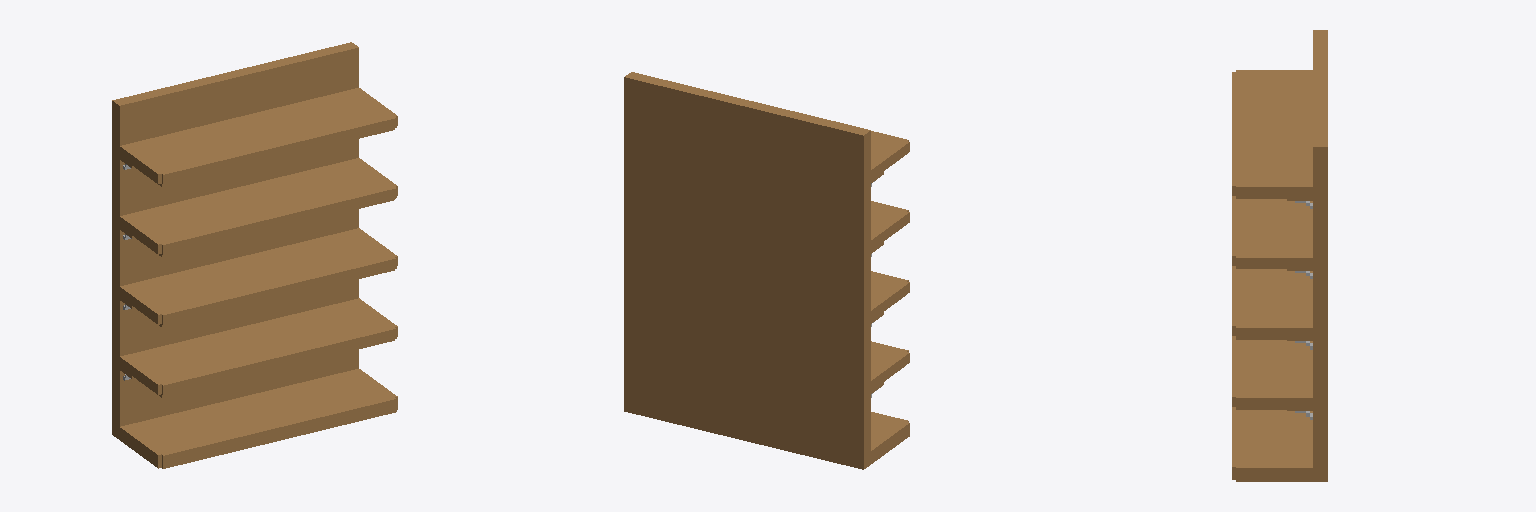
3 renders of one model, left to right at view 1: azimuth 30°, elevation 25°; view 2: azimuth 150°, elevation 25°; view 3: azimuth 270°, elevation 25°, orthographic.
Visible parts, largest first — view 1: object 1; view 2: object 1; view 3: object 1.
Part boxes in pixels (x1,y1,x2,y2): object 1: (112,42,397,468); object 1: (624,72,909,469); object 1: (1232,30,1327,481).
Bounding box in the file's own units: 7.5 × 10 × 2.6.
Materials: 1 (1 with a texture image).